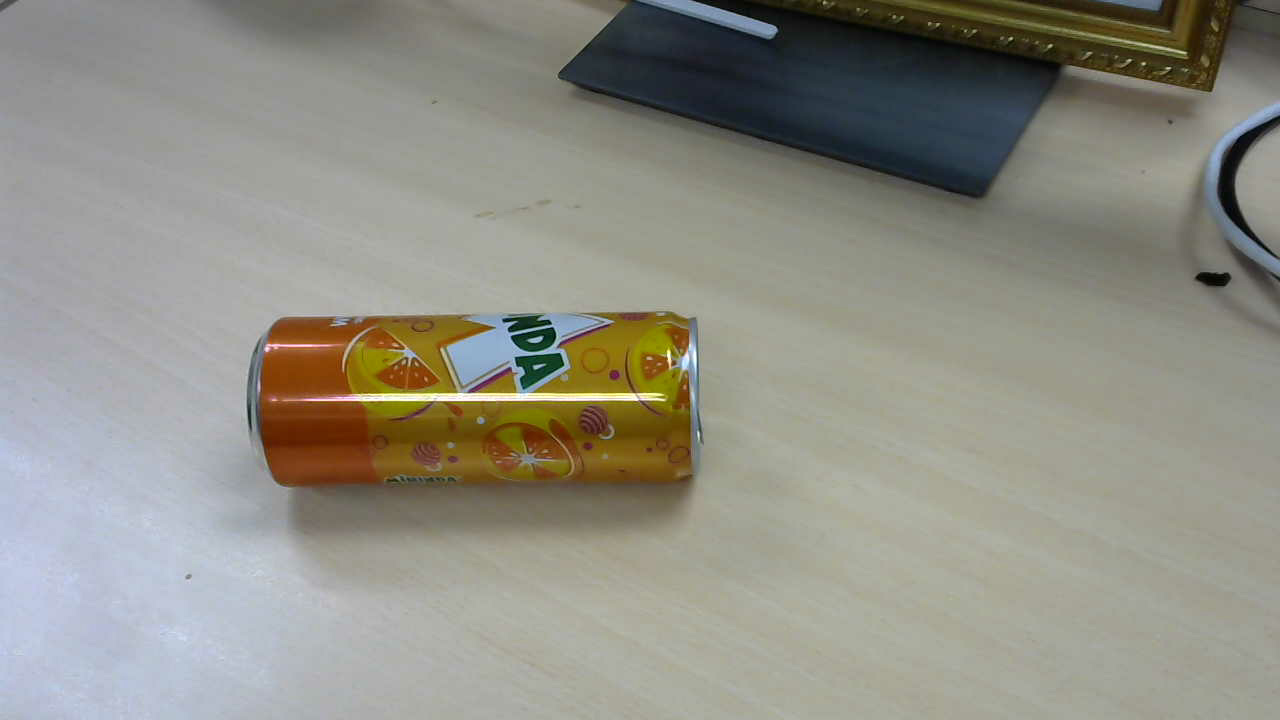Mirinda: (258, 314, 703, 494)
